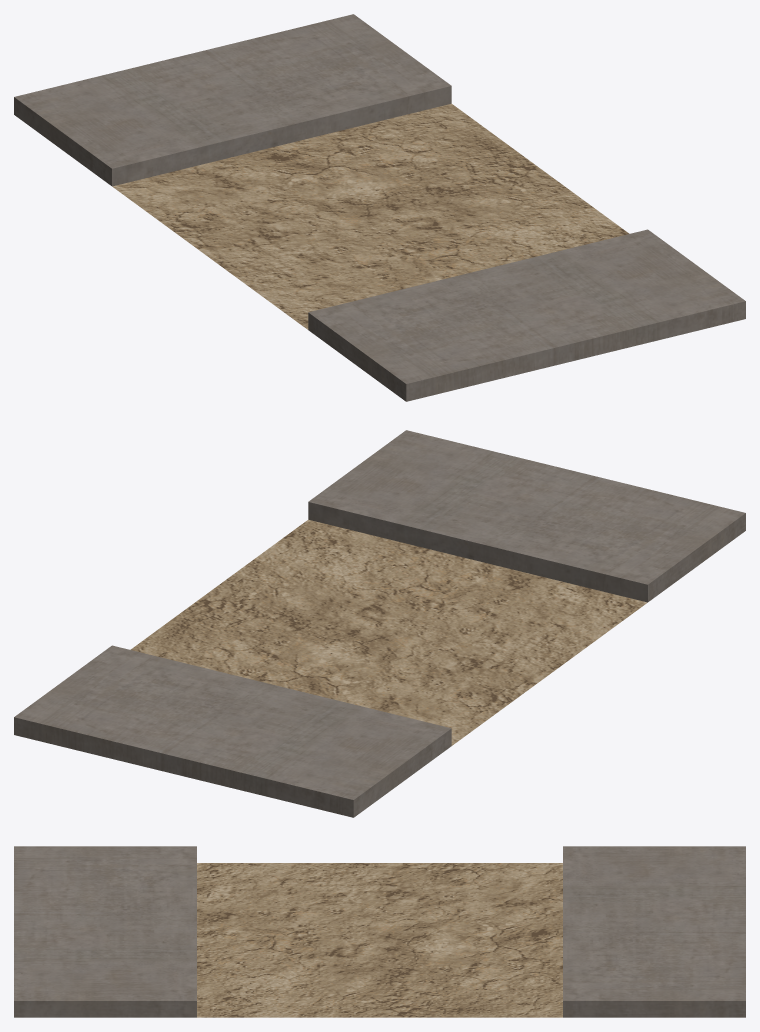
File: roadDirt_straight.fbx
3 views of the same model, one above another, from view 1: azimuth 30°, elevation 25°; view 2: azimuth 150°, elevation 25°; view 3: azimuth 270°, elevation 25° (orthographic). The views are drawn at different scales.
Parts seen in each view (by area): view 1: roadDirt_straight; view 2: roadDirt_straight; view 3: roadDirt_straight.
Boxes of the visible parts, box(x1,y1,x2,y2) form: roadDirt_straight: box(14, 14, 745, 401); roadDirt_straight: box(14, 430, 745, 817); roadDirt_straight: box(14, 846, 745, 1017).
Bounding box in the file's own units: 10 × 0.5 × 20.
